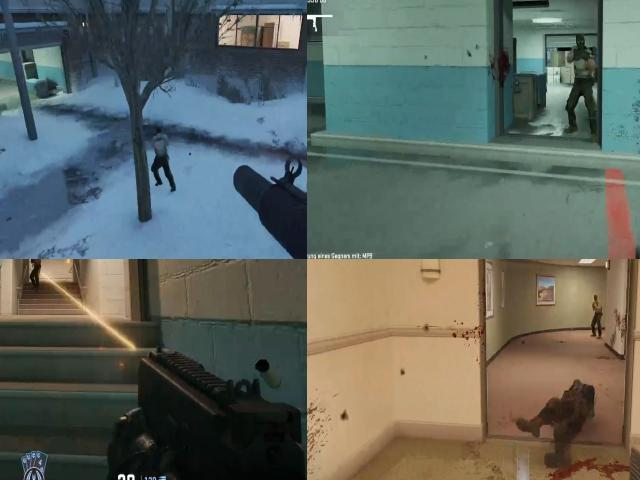Dead: (525, 367, 599, 463)
T: (566, 33, 600, 92), (150, 124, 169, 164), (590, 292, 604, 318), (31, 259, 43, 278)
T-Head: (567, 34, 590, 60), (155, 128, 165, 138), (592, 294, 601, 304)
